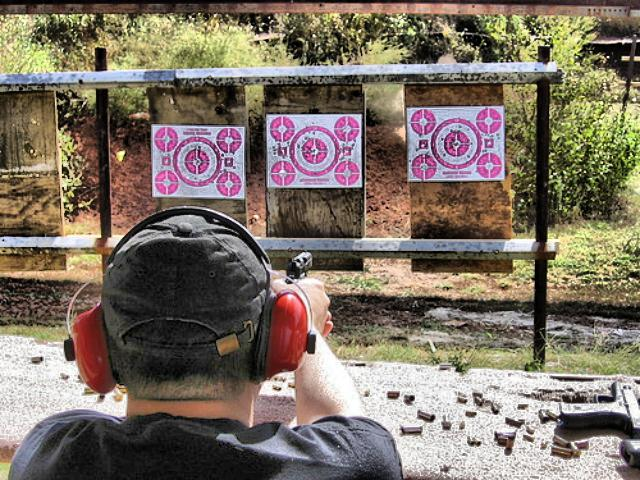pistol: (556, 380, 638, 437), (285, 249, 311, 283)
